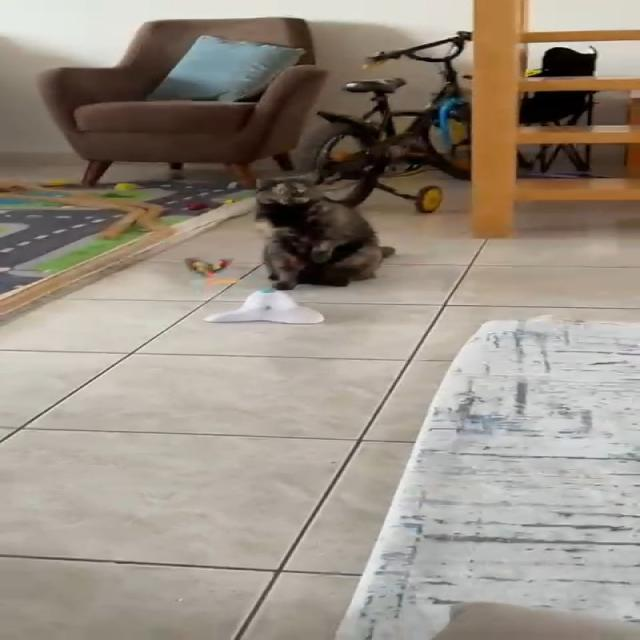authorized: (252, 159, 396, 290)
